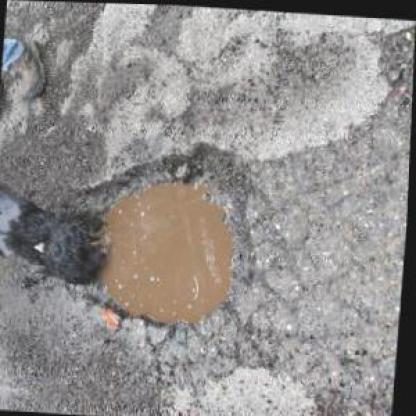pothole: (54, 131, 276, 336)
